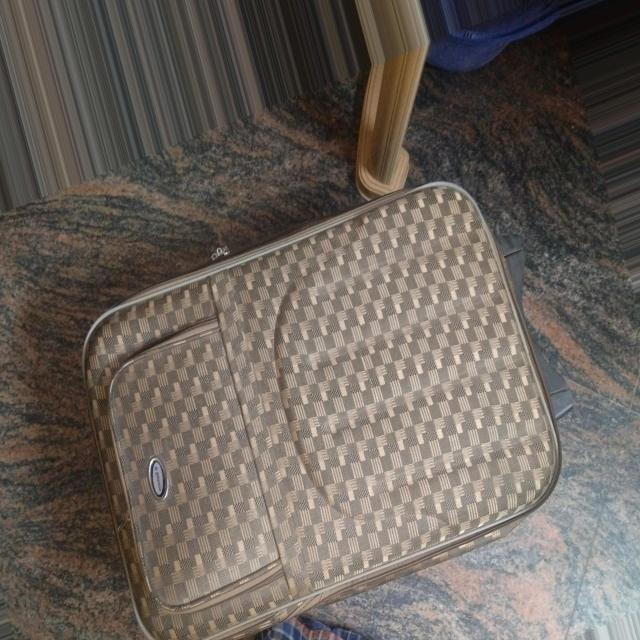Suitcase: (70, 186, 566, 639)
